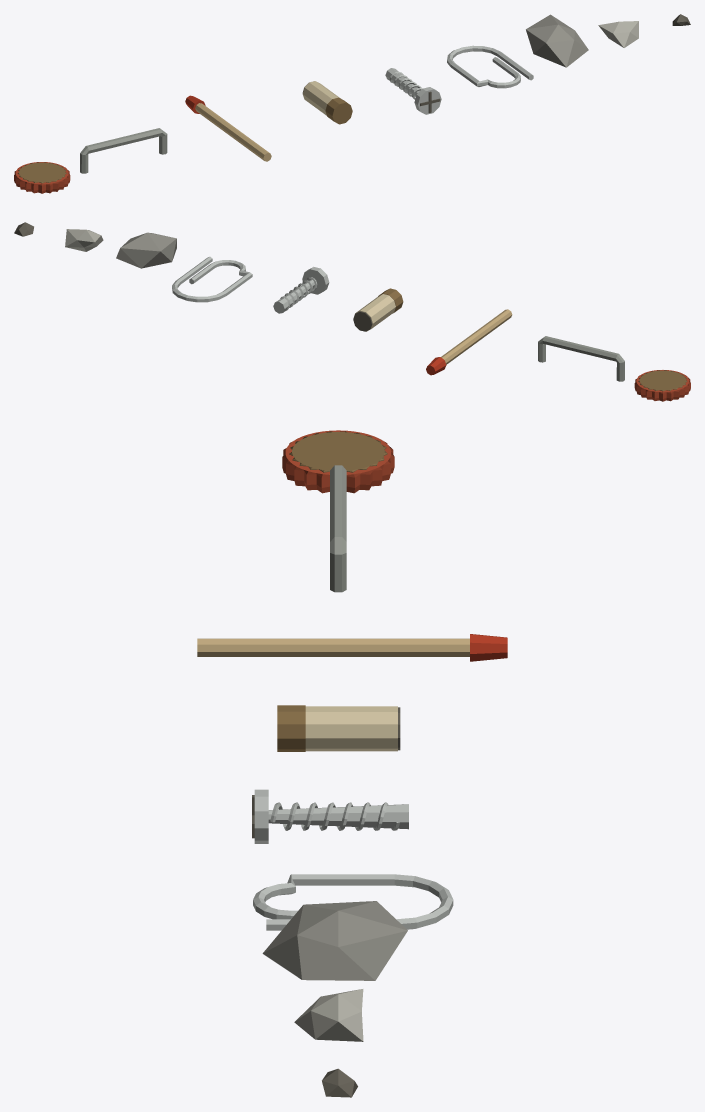
Rendered from props_kit.glb.
3 views of the same model, one above another, from view 1: azimuth 30°, elevation 25°; view 2: azimuth 150°, elevation 25°; view 3: azimuth 270°, elevation 25° (orthographic). The views are drawn at different scales.
Parts seen in each view (by area): view 1: prop_pebble_a, prop_bottlecap, prop_paperclip, prop_cig_filter, prop_matchstick, prop_screw, prop_staple, prop_pebble_b; view 2: prop_pebble_a, prop_bottlecap, prop_paperclip, prop_cig_filter, prop_matchstick, prop_screw, prop_staple, prop_pebble_b; view 3: prop_pebble_a, prop_matchstick, prop_cig_filter, prop_bottlecap, prop_screw, prop_paperclip, prop_pebble_b, prop_staple.
Part boxes in pixels (x1=…): prop_pebble_a: x1=526, y1=14, x2=588, y2=67; prop_bottlecap: x1=14, y1=162, x2=70, y2=193; prop_paperclip: x1=447, y1=45, x2=533, y2=88; prop_cig_filter: x1=302, y1=81, x2=352, y2=124; prop_matchstick: x1=185, y1=95, x2=271, y2=161; prop_screw: x1=385, y1=68, x2=441, y2=114; prop_staple: x1=80, y1=128, x2=167, y2=173; prop_pebble_b: x1=598, y1=21, x2=638, y2=47; prop_pebble_a: x1=116, y1=232, x2=176, y2=268; prop_bottlecap: x1=634, y1=370, x2=690, y2=401; prop_paperclip: x1=172, y1=256, x2=252, y2=302; prop_cig_filter: x1=353, y1=288, x2=403, y2=331; prop_matchstick: x1=426, y1=309, x2=512, y2=375; prop_screw: x1=273, y1=267, x2=329, y2=313; prop_staple: x1=538, y1=336, x2=624, y2=381; prop_pebble_b: x1=65, y1=229, x2=103, y2=251; prop_pebble_a: x1=262, y1=901, x2=407, y2=980; prop_matchstick: x1=197, y1=634, x2=507, y2=661; prop_cig_filter: x1=277, y1=705, x2=400, y2=751; prop_bottlecap: x1=282, y1=430, x2=394, y2=493; prop_screw: x1=252, y1=789, x2=408, y2=843; prop_paperclip: x1=253, y1=874, x2=453, y2=930; prop_pebble_b: x1=294, y1=989, x2=363, y2=1041; prop_staple: x1=330, y1=465, x2=346, y2=592.
Size of the model in its own units: 98.73 by 5.3 by 19.8.
